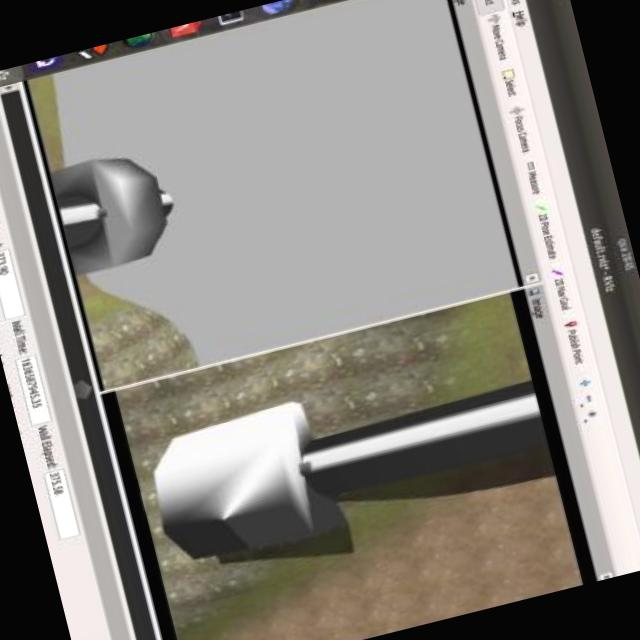gas: (233, 376, 548, 522), (52, 178, 174, 246)
